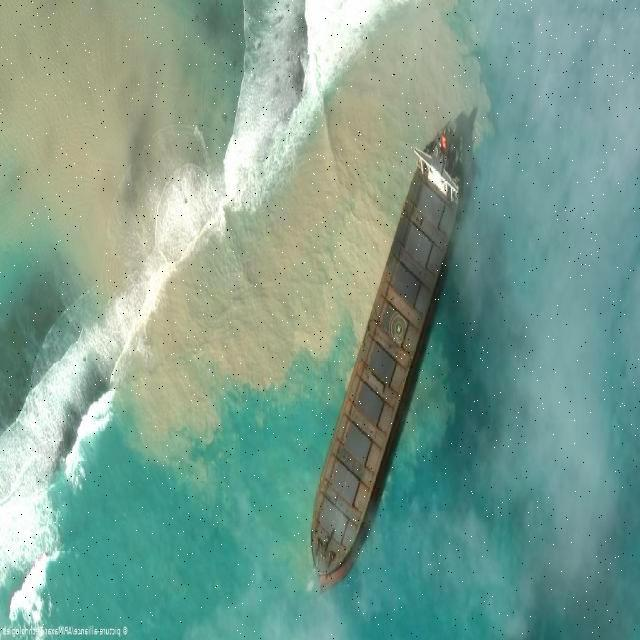oil: (430, 268, 528, 556)
